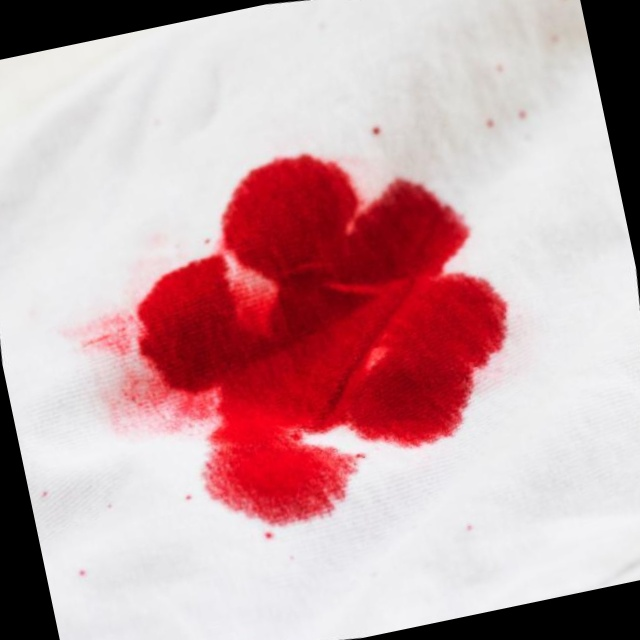blood: (106, 120, 534, 546)
